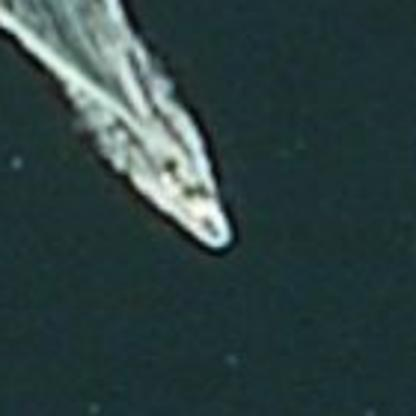ship: (96, 81, 254, 261)
